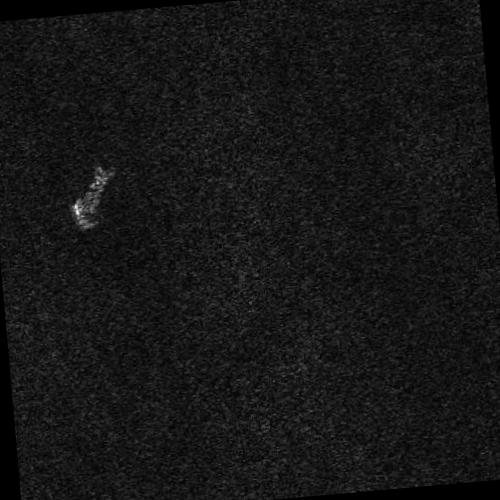ship: (72, 165, 108, 229)
